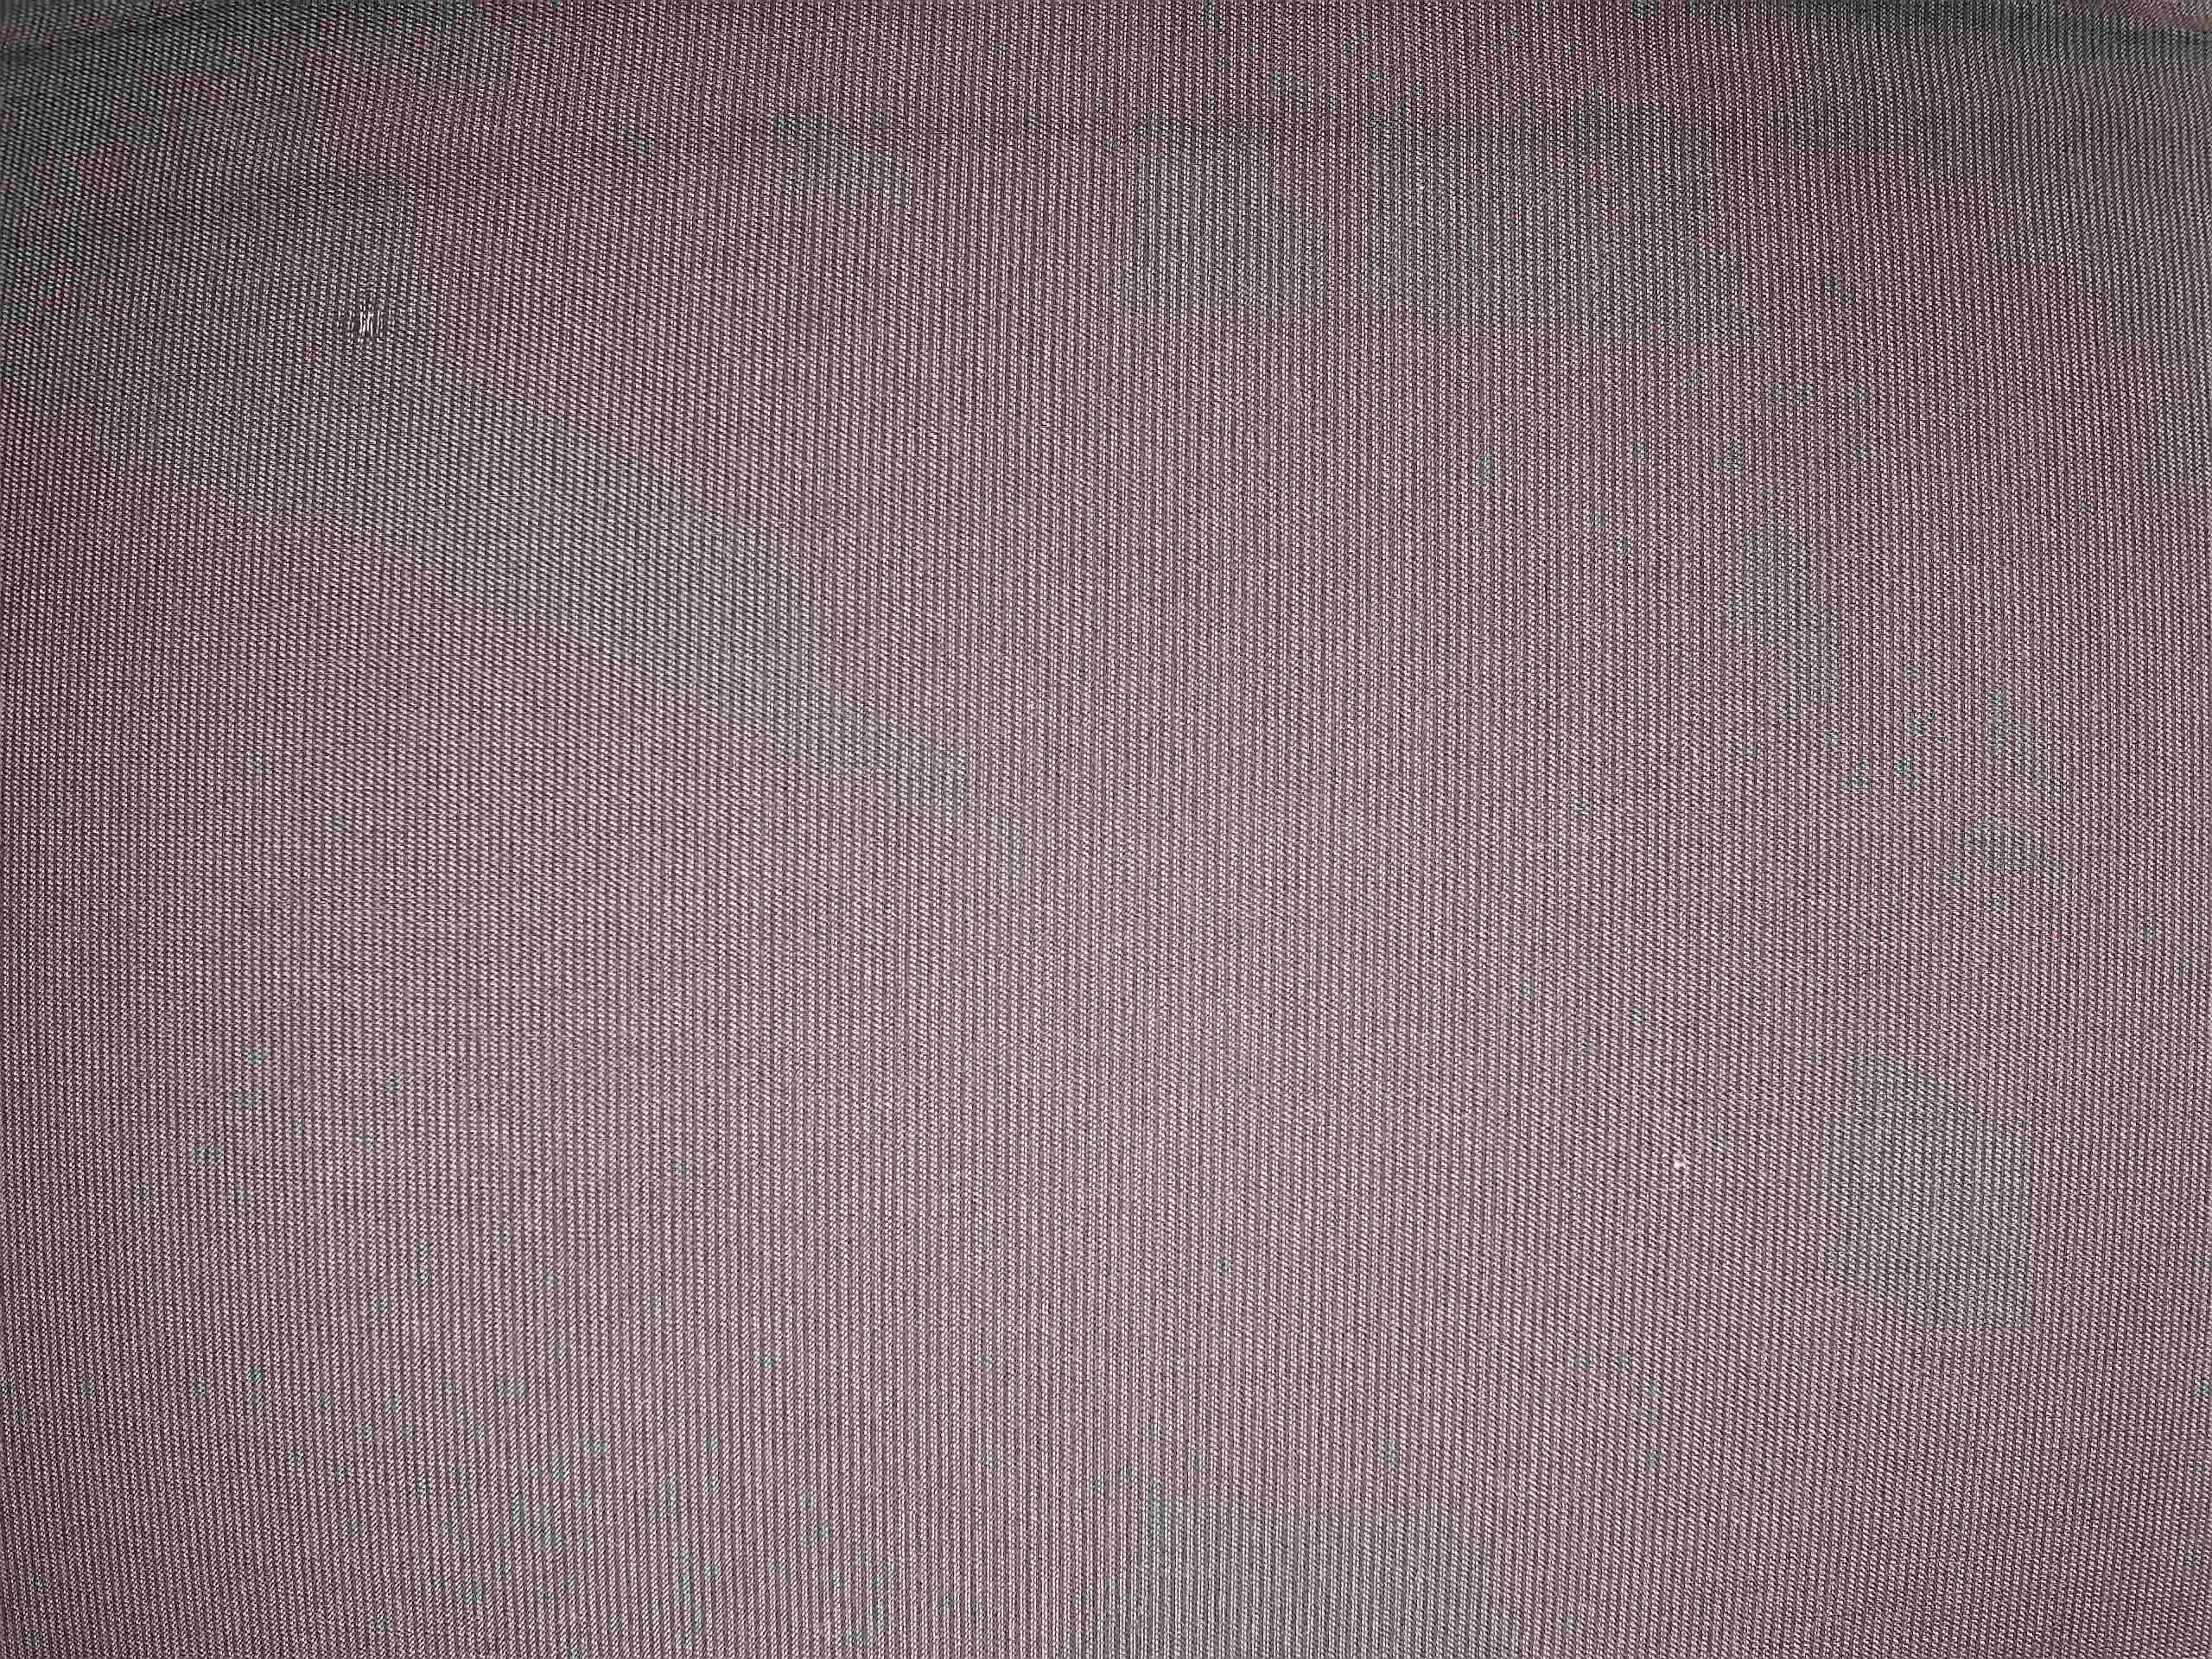rubbing-hole: (336, 286, 392, 357)
